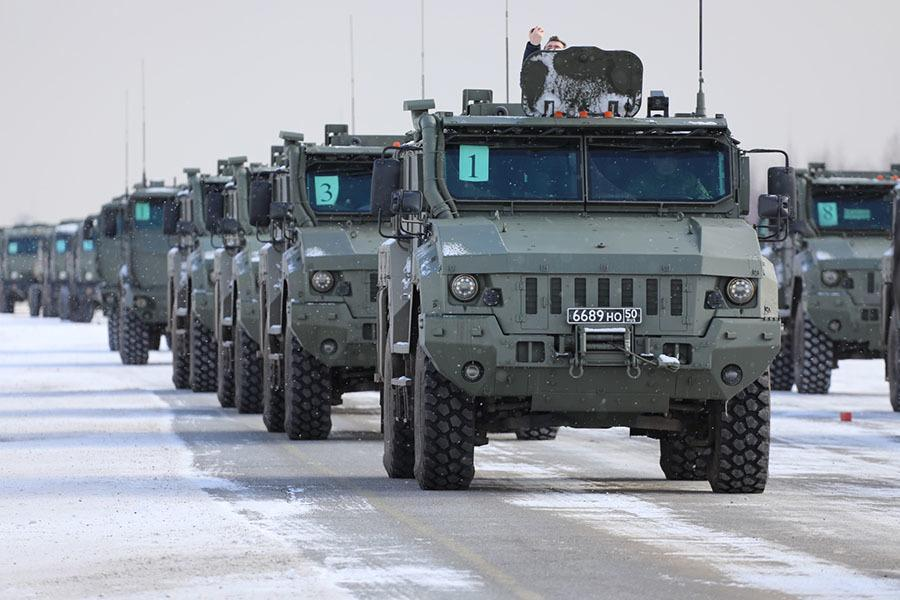armored_car: (389, 83, 778, 501), (258, 124, 396, 445), (779, 150, 900, 401), (216, 159, 266, 423), (168, 170, 222, 409), (120, 180, 171, 368)
